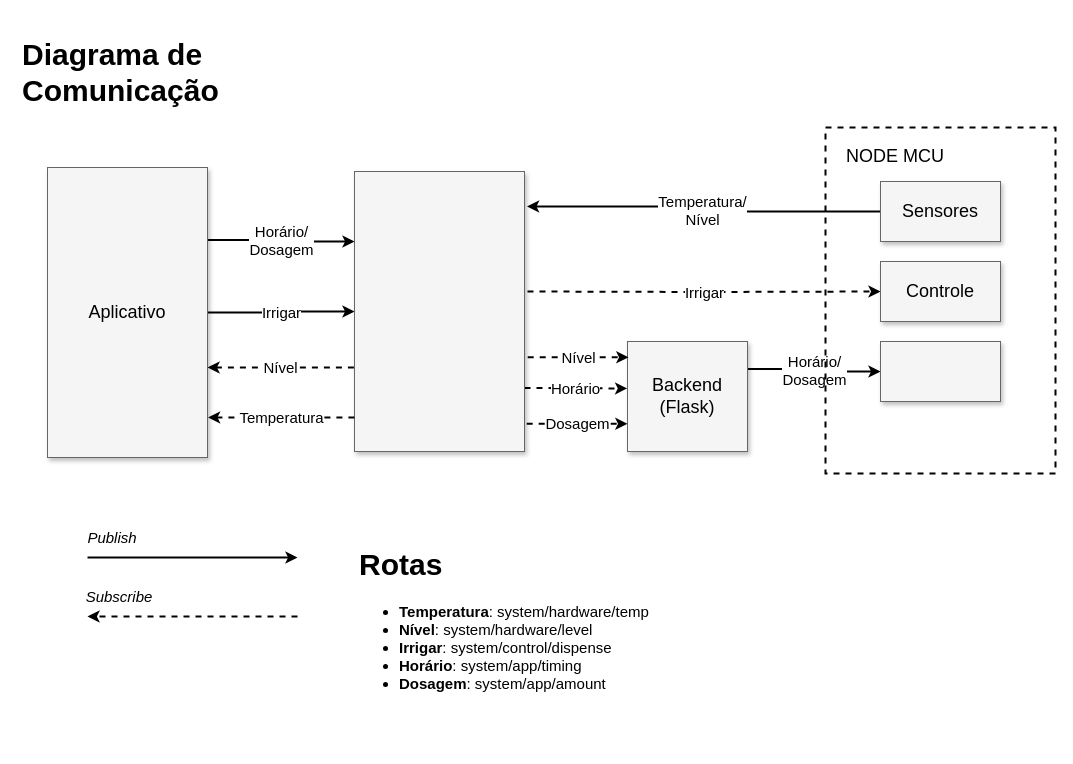
The diagram is 1073 pixels wide and 764 high, and some of its shapes have lost their labels. Here are the shapes that lost their labels. From the top down, the centre of each, then its label:
At pixel 440 312: "MQTT BROKER (CloudMQTT)".
At pixel 941 372: "Config".
